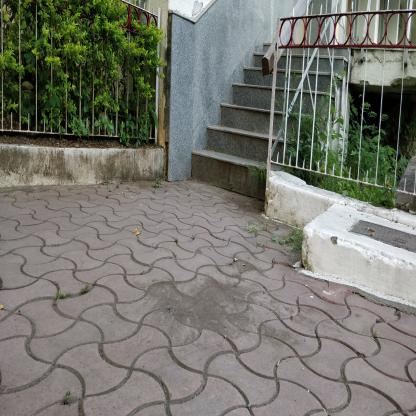stairs: (204, 76, 258, 208)
